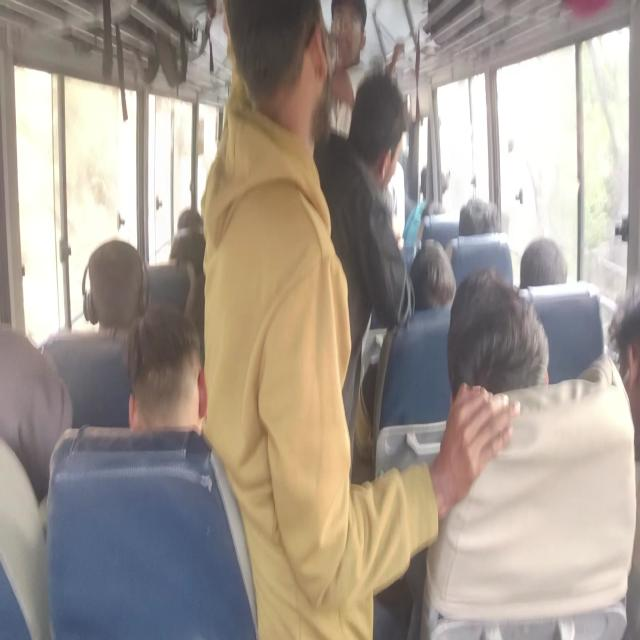person: (358, 228, 443, 634), (444, 267, 548, 400), (1, 330, 72, 498), (122, 302, 205, 434), (222, 0, 321, 109), (354, 74, 404, 252), (80, 239, 150, 331), (609, 284, 640, 469), (409, 240, 455, 312), (518, 237, 568, 288), (328, 4, 368, 59), (458, 198, 501, 238), (184, 263, 205, 336), (170, 230, 204, 264), (177, 208, 204, 233), (442, 239, 457, 265), (427, 201, 446, 216)
